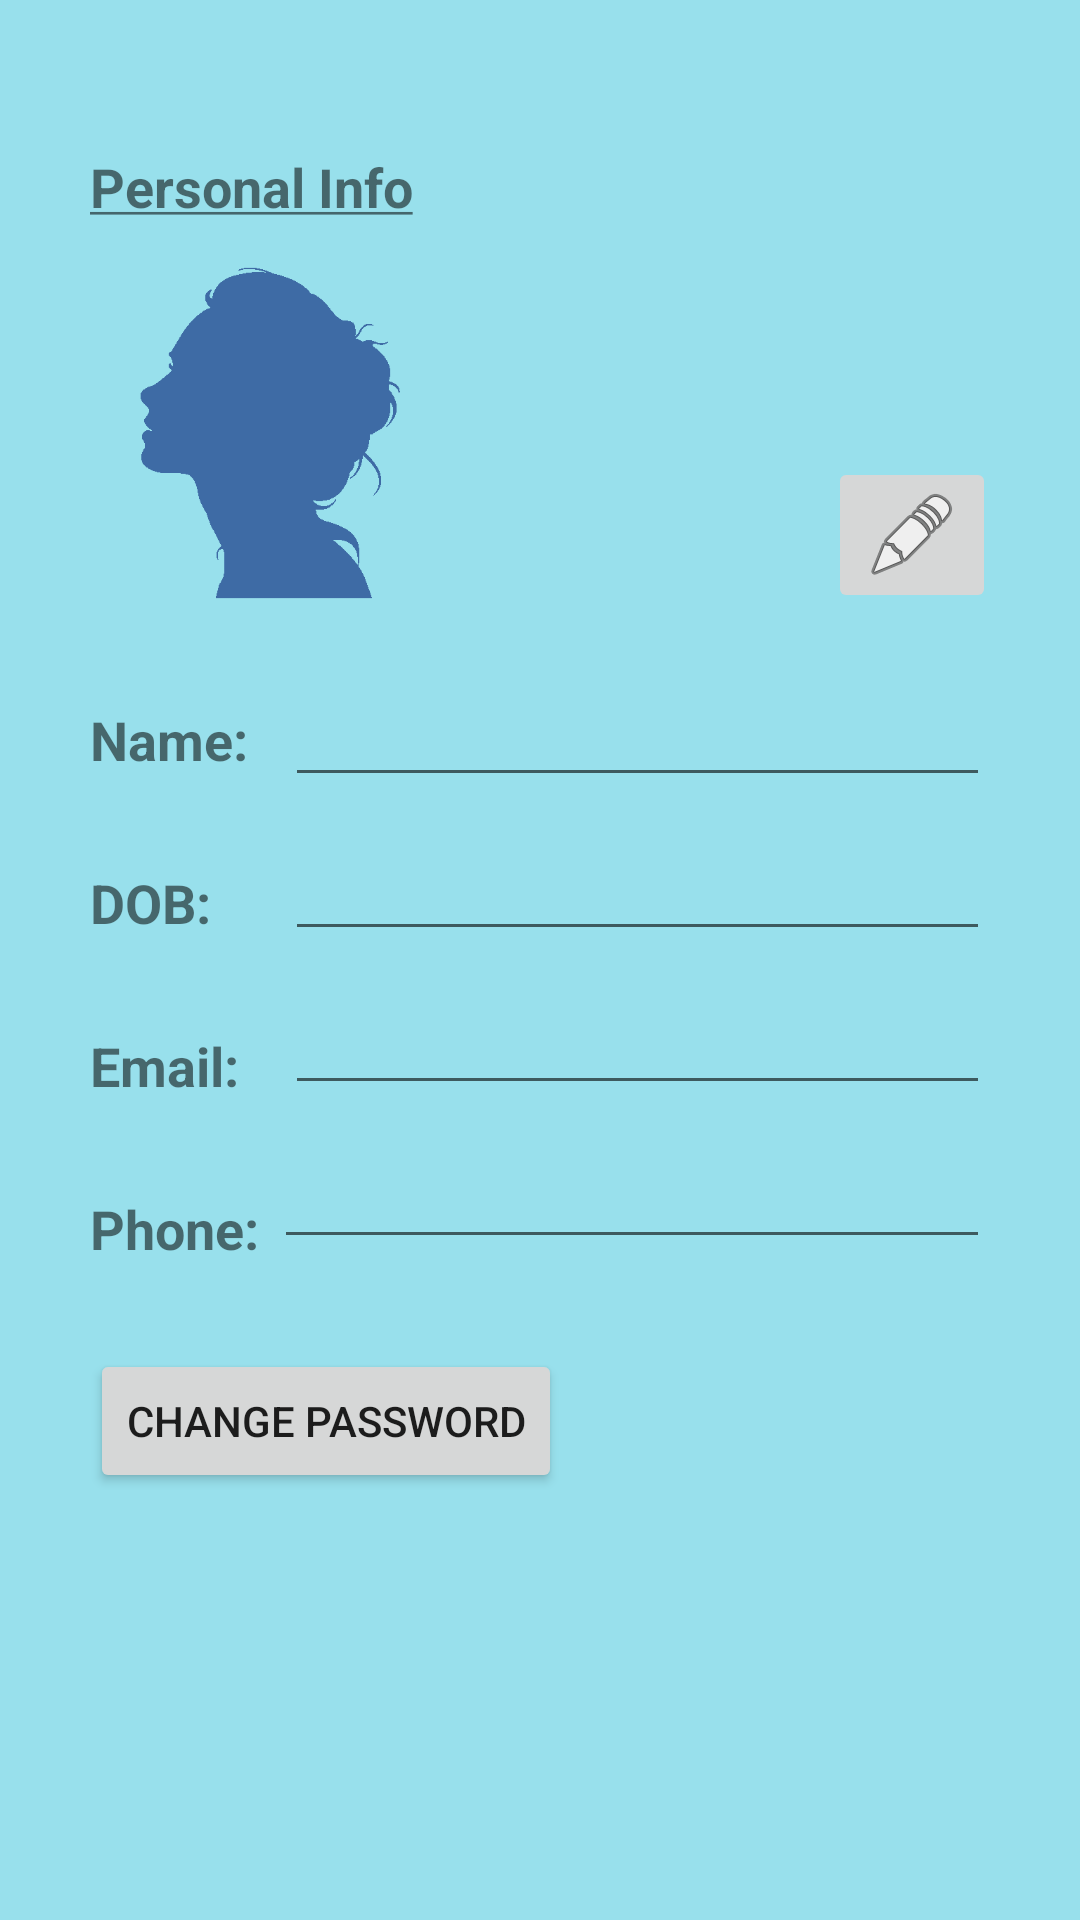

Where to tap for icons on this 1080×1920 app screen, as point (x, y):
Edit Info Button: point (912, 535)
Profile Picture: point (270, 433)
